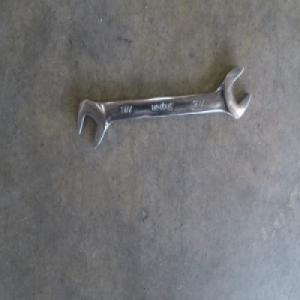Wrench: (80, 61, 249, 144)
